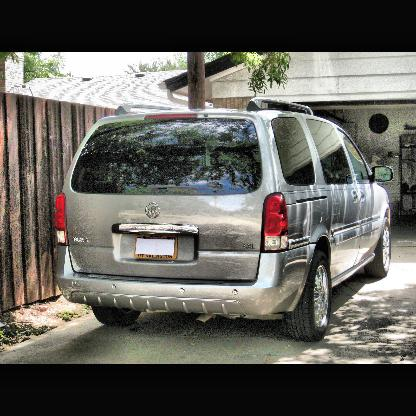Buick Rainier SUV 2007: (53, 100, 393, 344)
